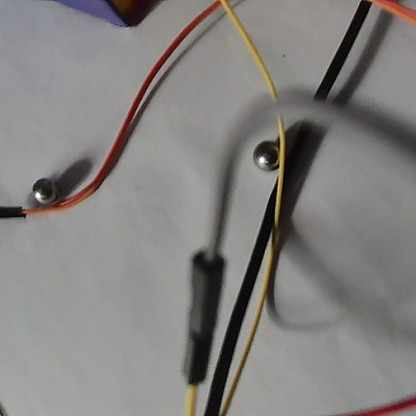ironball: (252, 140, 281, 169), (31, 177, 61, 204)
